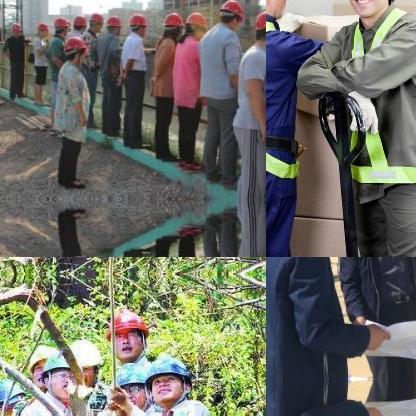Helmet: (136, 351, 194, 407), (36, 341, 86, 398), (104, 306, 152, 364), (68, 339, 102, 385), (326, 0, 402, 20), (113, 360, 145, 406), (24, 343, 52, 383), (0, 379, 28, 415), (218, 0, 244, 29), (62, 34, 88, 62), (249, 8, 265, 51), (182, 10, 208, 34), (161, 10, 182, 38), (103, 11, 122, 35), (128, 10, 146, 32), (52, 14, 67, 34), (87, 12, 103, 30), (72, 12, 86, 30), (34, 19, 48, 36), (10, 21, 18, 35)
